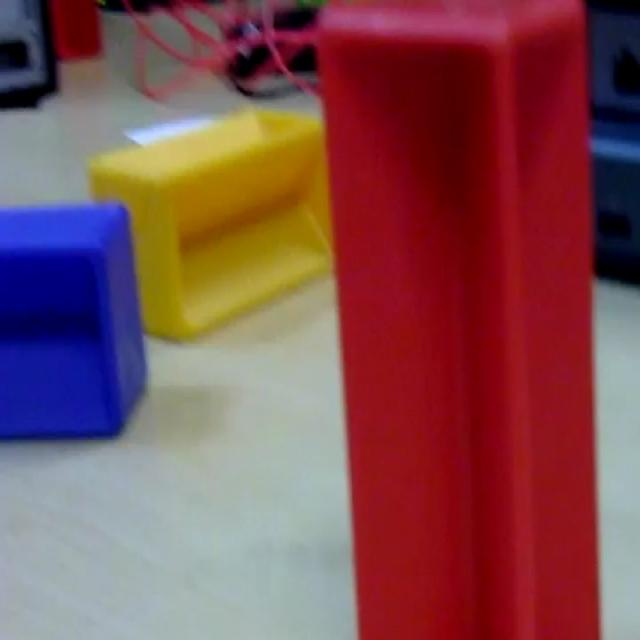blue_block: (1, 199, 147, 440)
red_block: (315, 1, 603, 636)
yellow_block: (88, 105, 333, 340)
